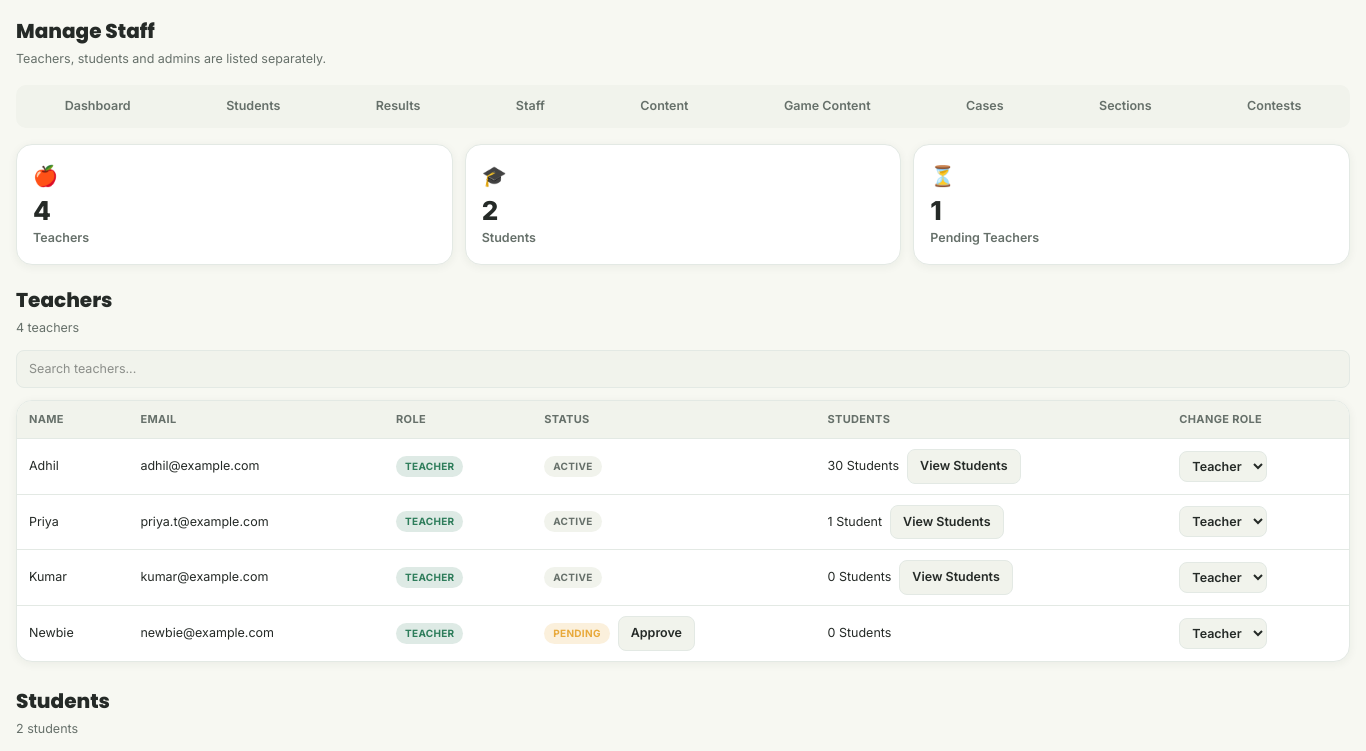
Test case: AdminStaff — summary counts › approving a pending teacher drops Pending Teachers to 0
The width and height of the screenshot is (1366, 751).
Check: the text "1" is shown, box [930,194,942,226]
Click the button "Approve".
click(656, 634)  # box [618,616,695,651]
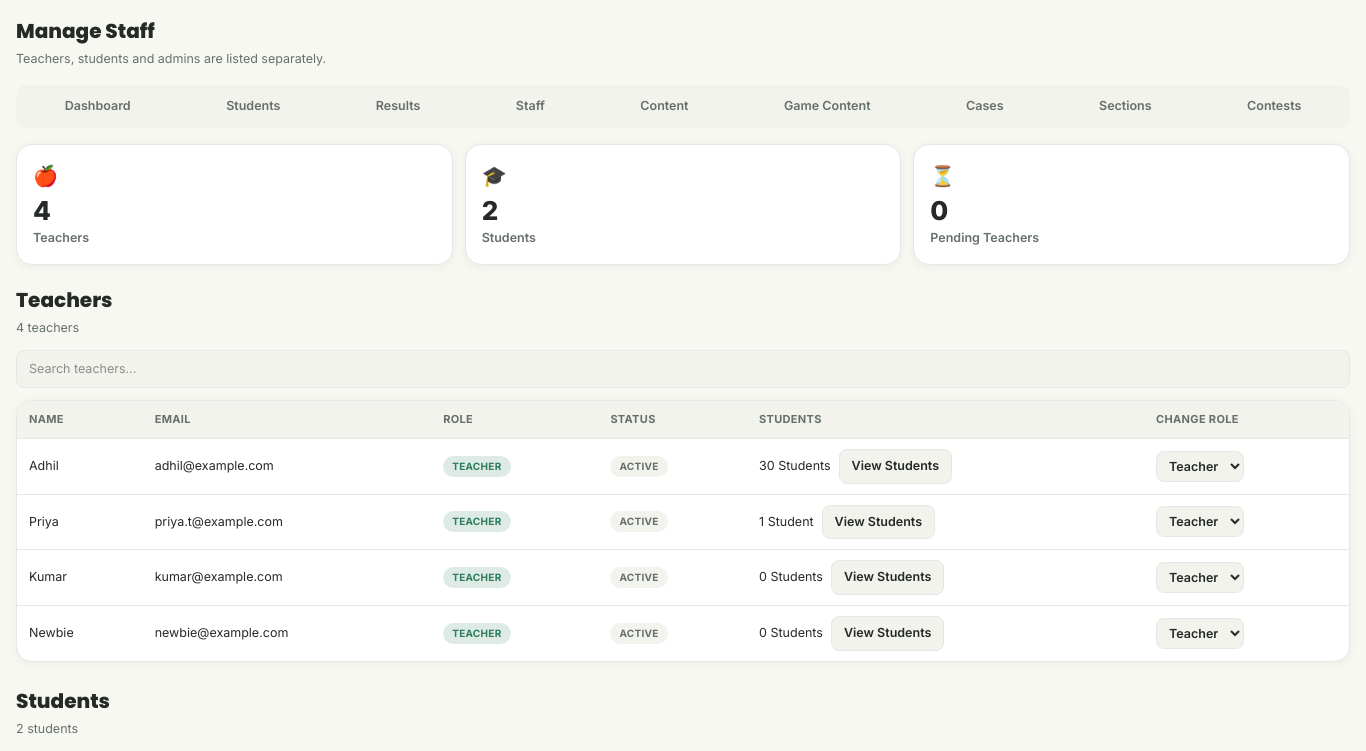
Check: the text "4" is shown, box [33,194,51,226]
Check: the text "0" is shown, box [930,194,948,226]
